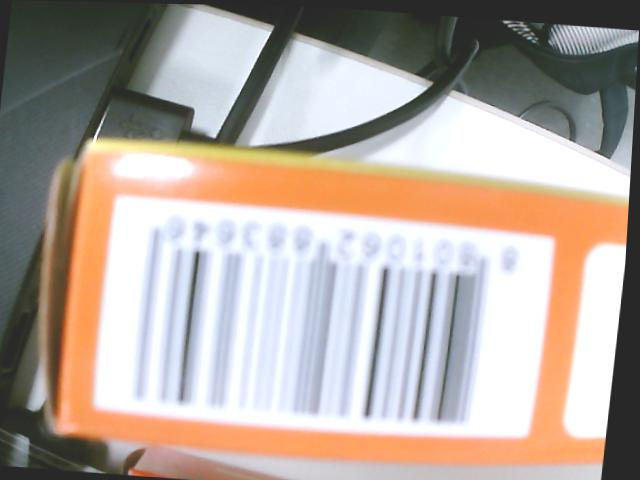crunchy-1500-2024-12-29: (111, 202, 542, 427)
